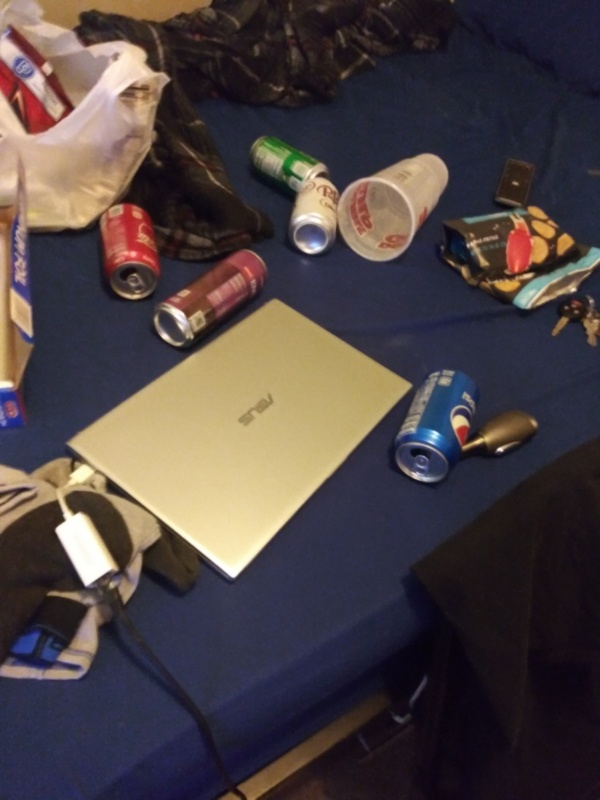can: (146, 247, 274, 354), (390, 368, 483, 488), (97, 199, 168, 303), (244, 130, 330, 190), (289, 178, 341, 261)
